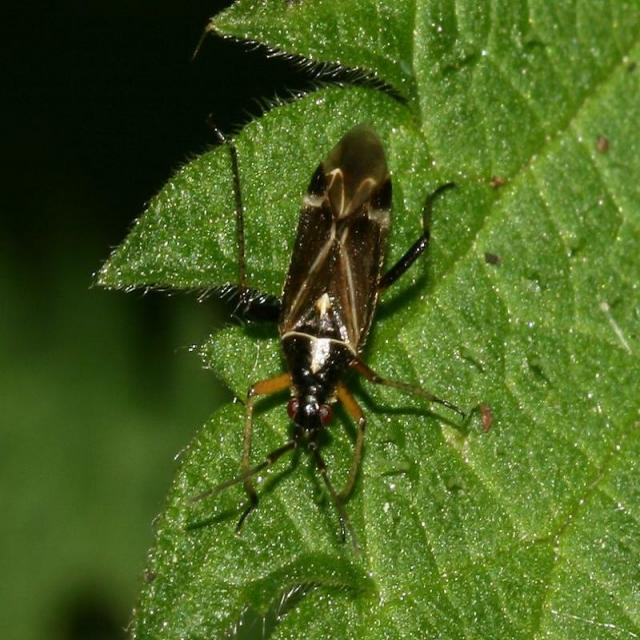Miridae-Adult-: (182, 110, 454, 526)
